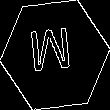M_S: (32, 27, 78, 83)
